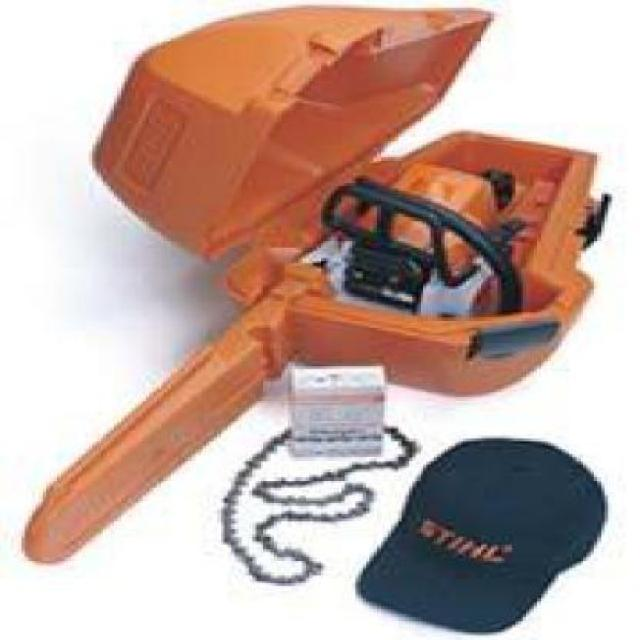Chainsaw: (17, 0, 620, 574)
